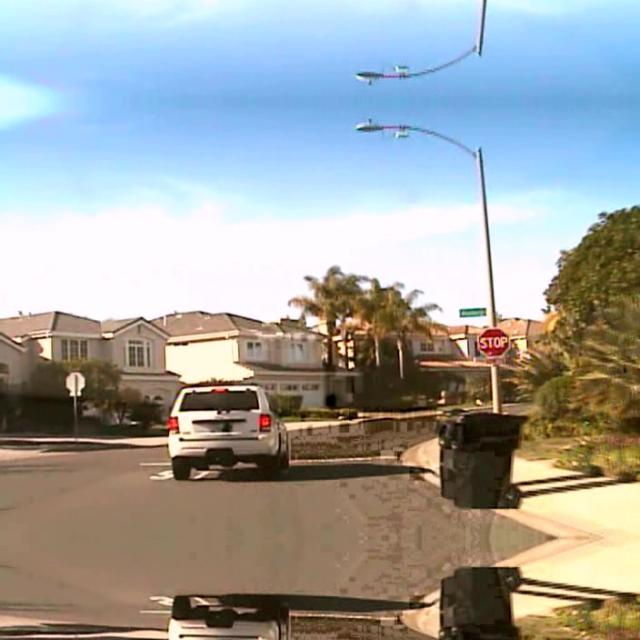stop: (478, 326, 509, 356)
